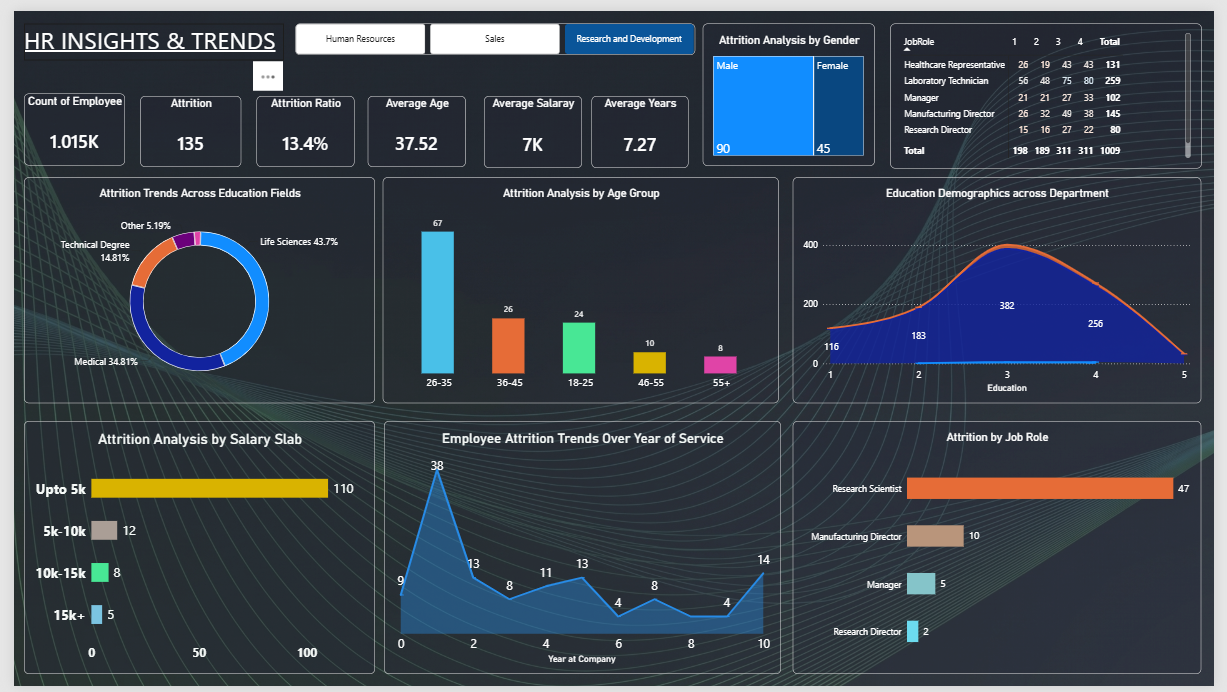

This screenshot's page, from the dashboard's own definition file:
{"tool":"powerbi","page":{"name":"Research and Development","canvas":[1920,1080],"ordinal":3},"visuals":[{"type":"cardVisual","title":"Count of Employee","fields":{"Data":["CountNonNull(HR.EmployeeCount)"]},"box":[16.7,131.7,161.7,115],"z":0},{"type":"treemap","title":"Attrition Analysis by Gender","fields":{"Group":["HR.Gender"],"Values":["HR.Attrition Count"]},"box":[1101.7,20,275,228.3],"z":1000},{"type":"donutChart","title":"Attrition Trends Across Education Fields","fields":{"Category":["HR.EducationField"],"Y":["HR.Attrition Count"]},"box":[16.7,266.7,561.7,361.7],"z":2000},{"type":"clusteredColumnChart","title":"Attrition Analysis by Age Group","fields":{"Category":["HR.AgeGroup"],"Y":["HR.Attrition Count"]},"box":[590,266.7,633.3,361.7],"z":3000},{"type":"stackedAreaChart","title":"Education Demographics across Department","fields":{"Category":["HR.Education"],"Series":["HR.Department"],"Y":["CountNonNull(HR.EmployeeNumber)"]},"box":[1245,266.7,653.3,361.7],"z":4000},{"type":"barChart","title":"Attrition Analysis by Salary Slab","fields":{"Category":["HR.SalarySlab"],"Y":["HR.Attrition Count"]},"box":[16.7,656.7,561.7,405],"z":5000},{"type":"lineChart","title":"Employee Attrition  Trends Over Year of Service","fields":{"Category":["HR.YearsAtCompany"],"Y":["HR.Attrition Count"]},"box":[591.7,656.7,635,405],"z":6000},{"type":"barChart","title":"Attrition by Job Role","fields":{"Category":["HR.JobRole"],"Y":["HR.Attrition Count"]},"box":[1246.7,656.7,653.3,405],"z":7000},{"type":"cardVisual","title":"Attrition Ratio","fields":{"Data":["HR.Attrition Rate"]},"box":[388.3,136.7,156.7,113.3],"z":8000},{"type":"cardVisual","title":"Attrition","fields":{"Data":["HR.Attrition Count"]},"box":[201.7,135,161.7,113.3],"z":9000},{"type":"cardVisual","title":"Average Age","fields":{"Data":["Avg(HR.Age)"]},"box":[566.7,136.7,156.7,113.3],"z":10000},{"type":"cardVisual","title":"Average Salaray","fields":{"Data":["HR.avgsalary"]},"box":[751.7,135,156.7,115],"z":11000},{"type":"cardVisual","title":"Average Years","fields":{"Data":["Avg(HR.YearsAtCompany)"]},"box":[923.3,135,155,115],"z":12000},{"type":"textbox","box":[16,20,416,60],"z":13000},{"type":"pageNavigator","box":[450,20,640,50],"z":14000},{"type":"pivotTable","fields":{"Columns":["HR.JobSatisfaction"],"Rows":["HR.JobRole"],"Values":["HR.totalemployee"]},"box":[1402,20,498,232],"z":14001}]}

Visuals, with their boxes in screenshot pixels (x1, y1, x2, y2), scaled from the page's 1920x1080 canvas onto the 1227x692 screenshot:
"Count of Employee" cardVisual: [11,84,114,158]
"Attrition Analysis by Gender" treemap: [704,13,880,159]
"Attrition Trends Across Education Fields" donutChart: [11,171,370,403]
"Attrition Analysis by Age Group" clusteredColumnChart: [377,171,782,403]
"Education Demographics across Department" stackedAreaChart: [796,171,1213,403]
"Attrition Analysis by Salary Slab" barChart: [11,421,370,680]
"Employee Attrition  Trends Over Year of Service" lineChart: [378,421,784,680]
"Attrition by Job Role" barChart: [797,421,1214,680]
"Attrition Ratio" cardVisual: [248,88,348,160]
"Attrition" cardVisual: [129,86,232,159]
"Average Age" cardVisual: [362,88,462,160]
"Average Salaray" cardVisual: [480,86,581,160]
"Average Years" cardVisual: [590,86,689,160]
textbox: [10,13,276,51]
pageNavigator: [288,13,697,45]
pivotTable - HR.JobSatisfaction x HR.JobRole: [896,13,1214,161]
